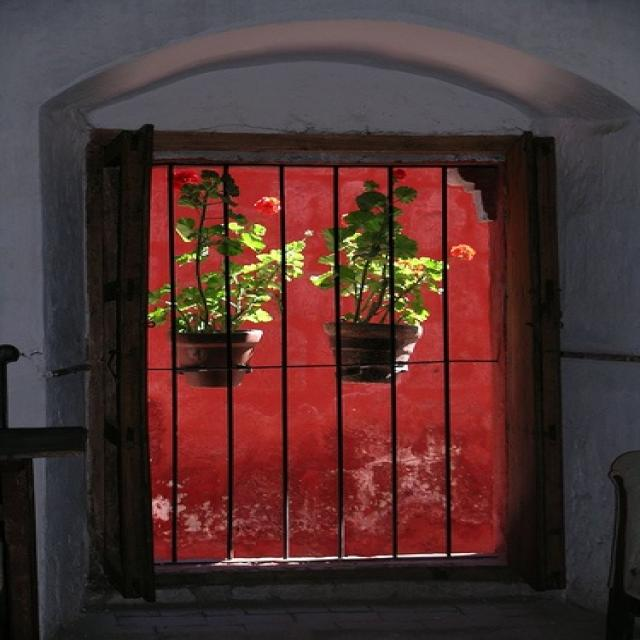pottedplant: (312, 170, 472, 386), (146, 172, 298, 392)
